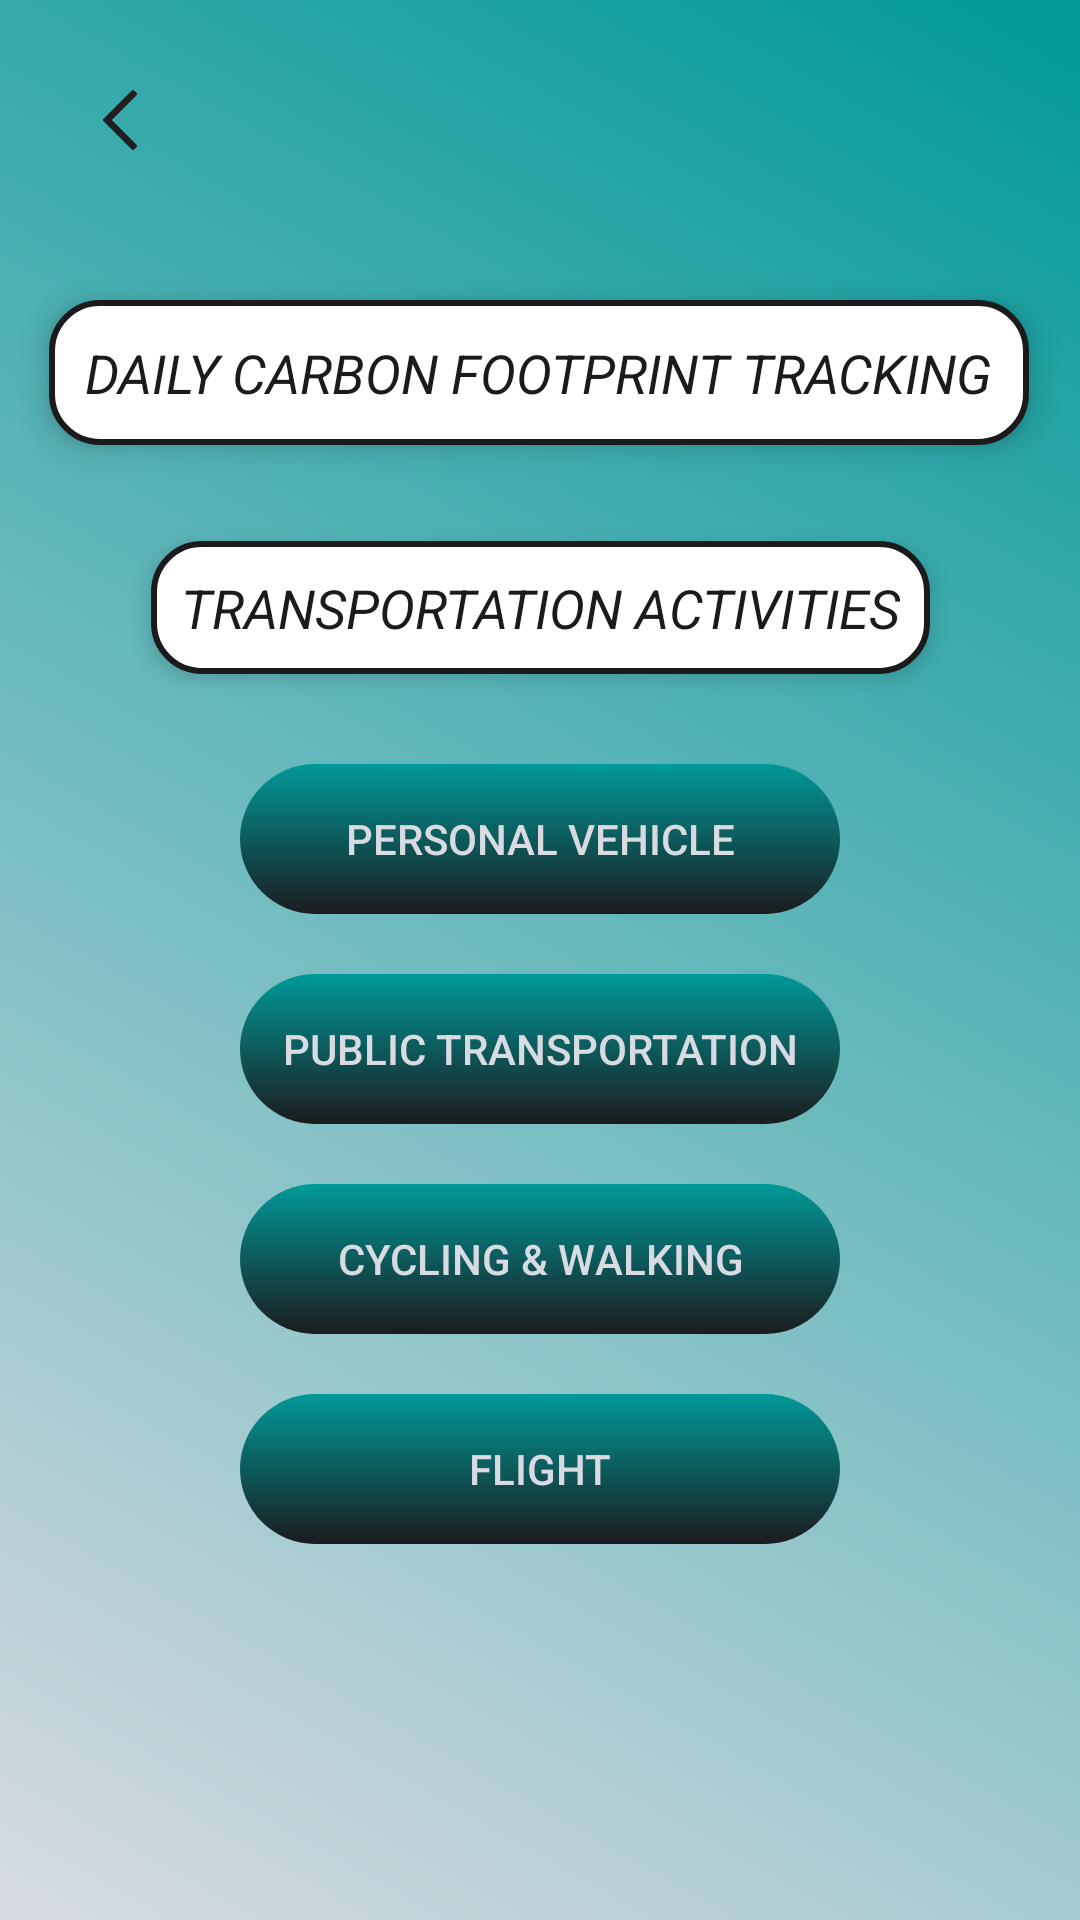

Icons on this 1080*1920 Android screen, each with its box as (x1, y1, x2, y2):
Back Button: (103, 90, 137, 150)
